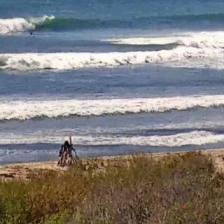surfer: (29, 32, 38, 36)
